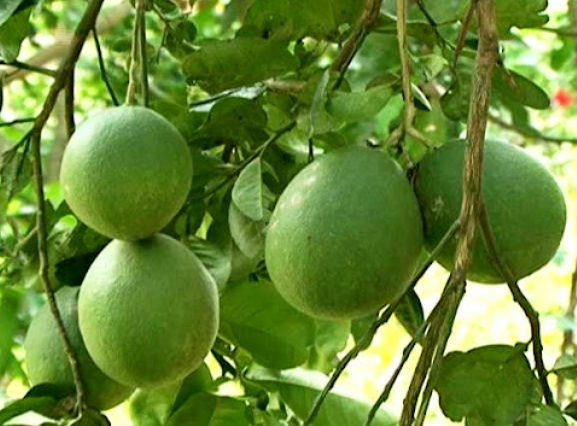buoi: (259, 128, 427, 325), (404, 134, 570, 289), (73, 236, 224, 394), (58, 98, 197, 247), (19, 281, 147, 413)
